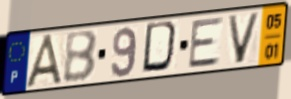9: (109, 25, 138, 79)
A: (23, 32, 66, 89)
B: (62, 28, 100, 85)
D: (140, 19, 182, 75)
E: (186, 15, 226, 71)
V: (226, 11, 263, 66)
